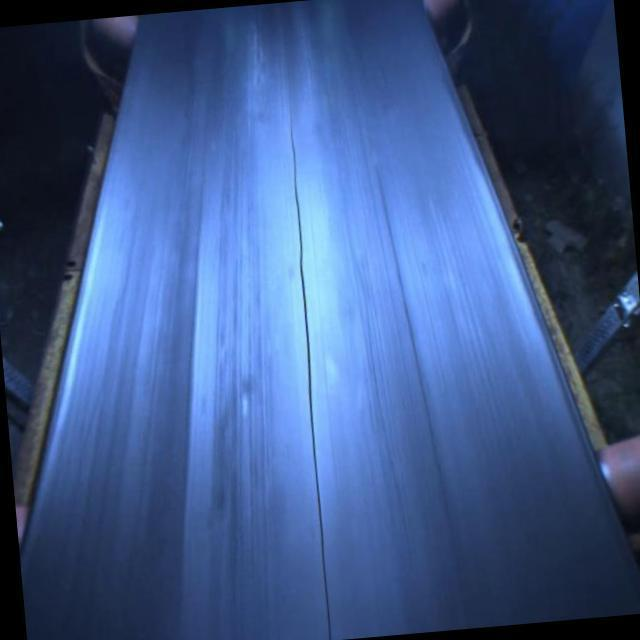Tear: (284, 100, 338, 640)
